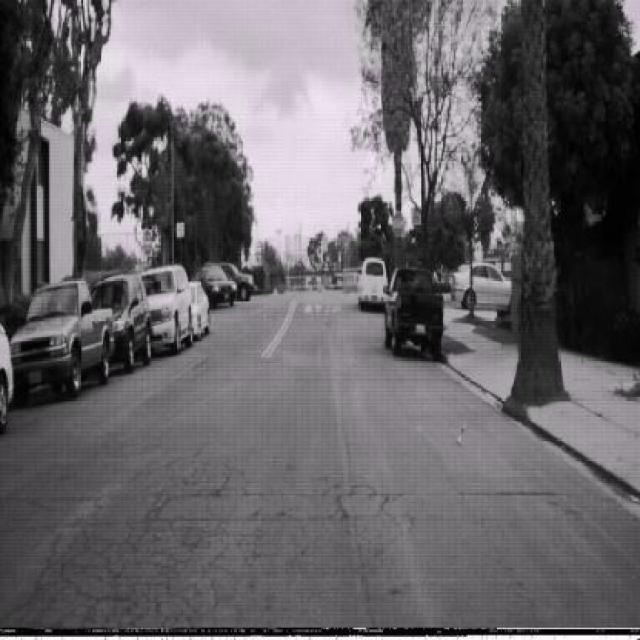doNotEnter: (142, 228, 152, 258)
stop: (391, 209, 405, 238)
